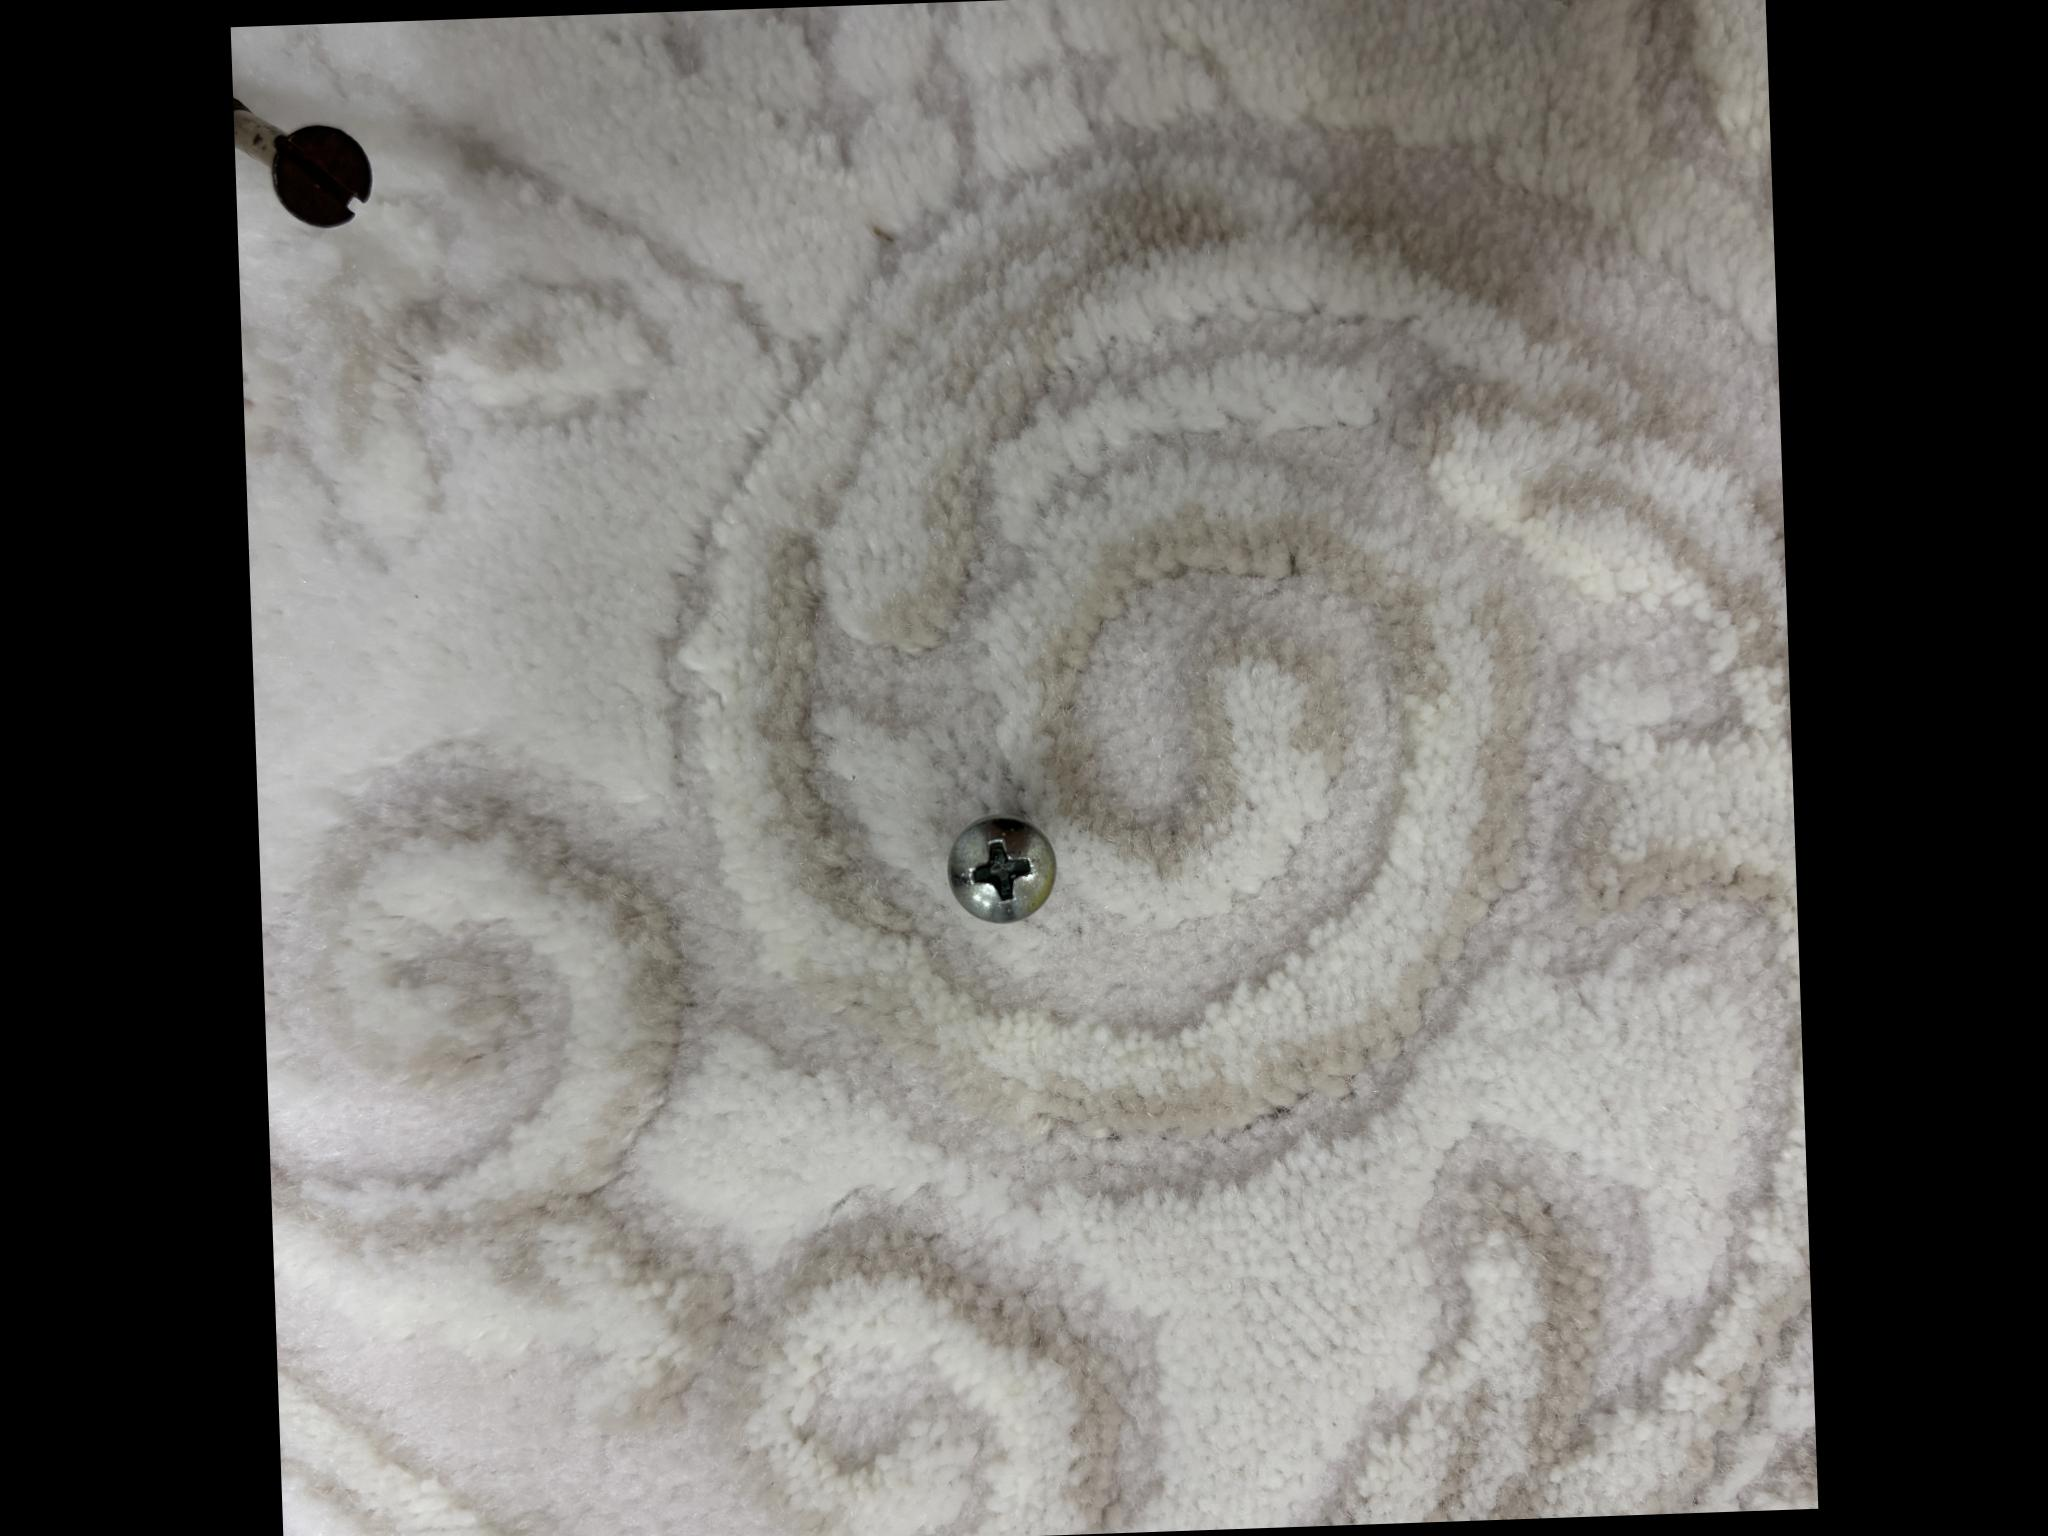PH: (1134, 939, 1240, 1046)
